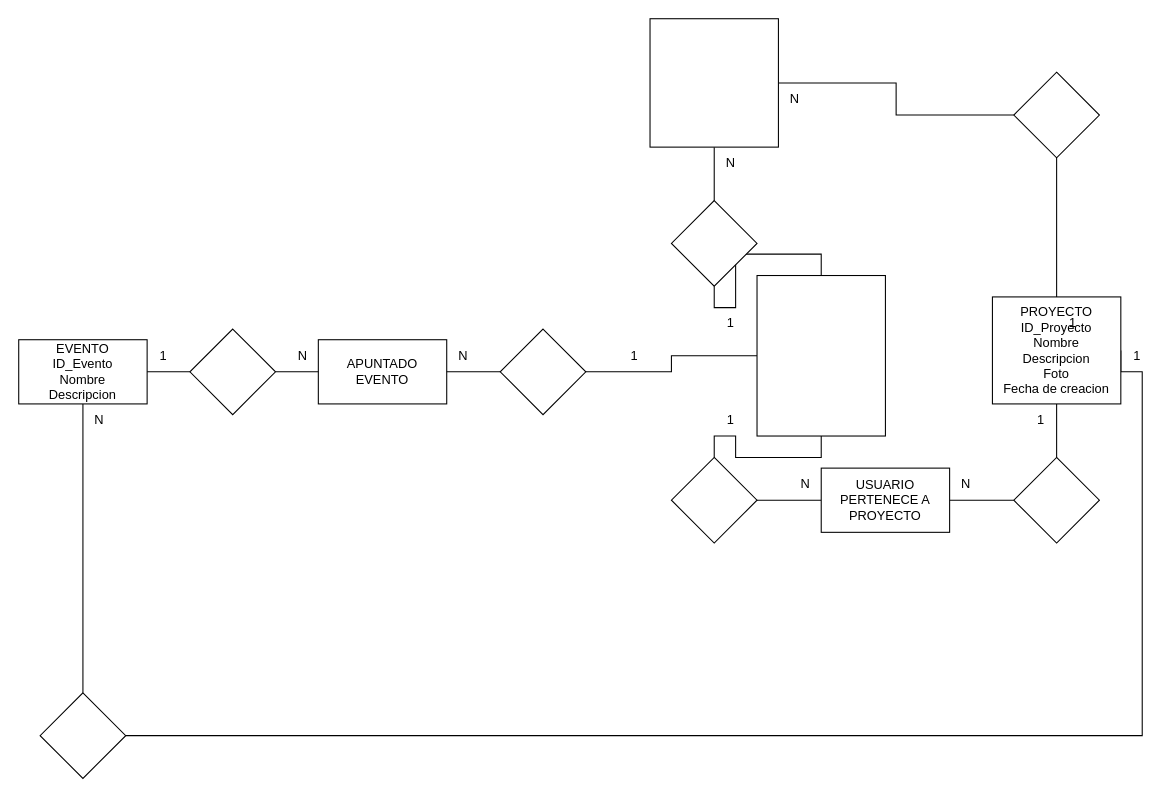
This 1172x797 diagram has some shape labels left out. Here are the shapes that lost their labels. From the top down, the centre of each, then its label:
At point (713, 82): "SOLICITUD UNION ID_Solicitud Concepto Asunto Fecha de solicitud Aprobacion".
At point (820, 355): "USUARIO ID_Usuario Nick DNI Nombre Foto Apellido Email Contraseña Fecha de union".
